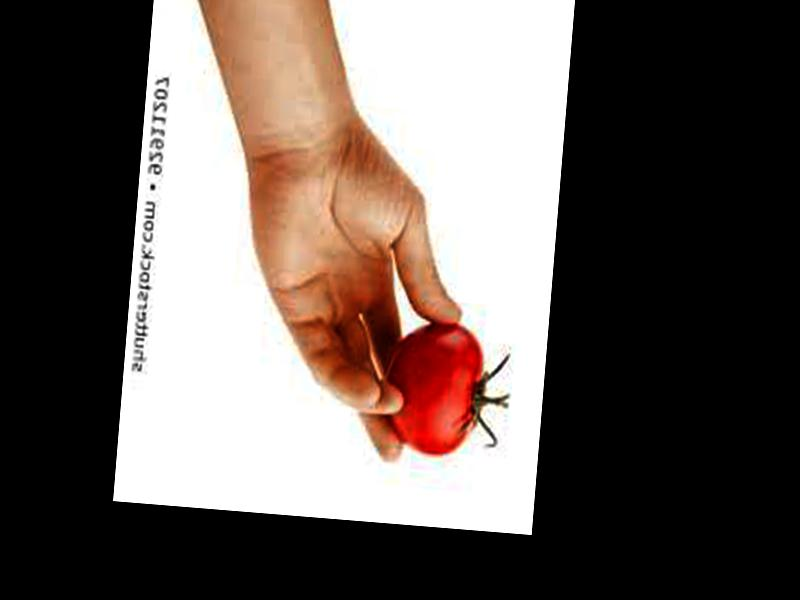Tomato: (379, 317, 486, 459)
